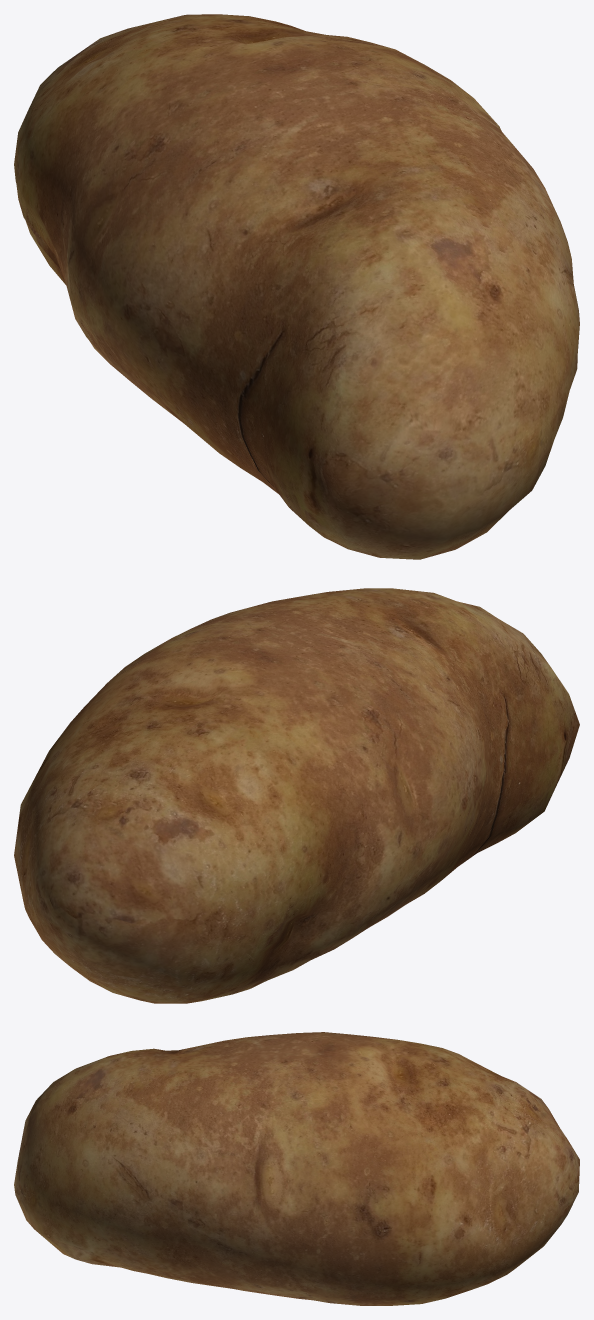
Rendered from food_potato.glb.
3 views of the same model, one above another, from view 1: azimuth 30°, elevation 25°; view 2: azimuth 150°, elevation 25°; view 3: azimuth 270°, elevation 25° (orthographic). The views are drawn at different scales.
Visible parts, largest first — view 1: Russet Potato; view 2: Russet Potato; view 3: Russet Potato.
Part boxes in pixels (box(x1,y1,x2,y2)): Russet Potato: box(14, 14, 579, 559); Russet Potato: box(14, 588, 579, 1003); Russet Potato: box(14, 1032, 579, 1305).
Bounding box in the file's own units: 0.0508 × 0.0403 × 0.09.
Materials: 1 (1 with a texture image).
